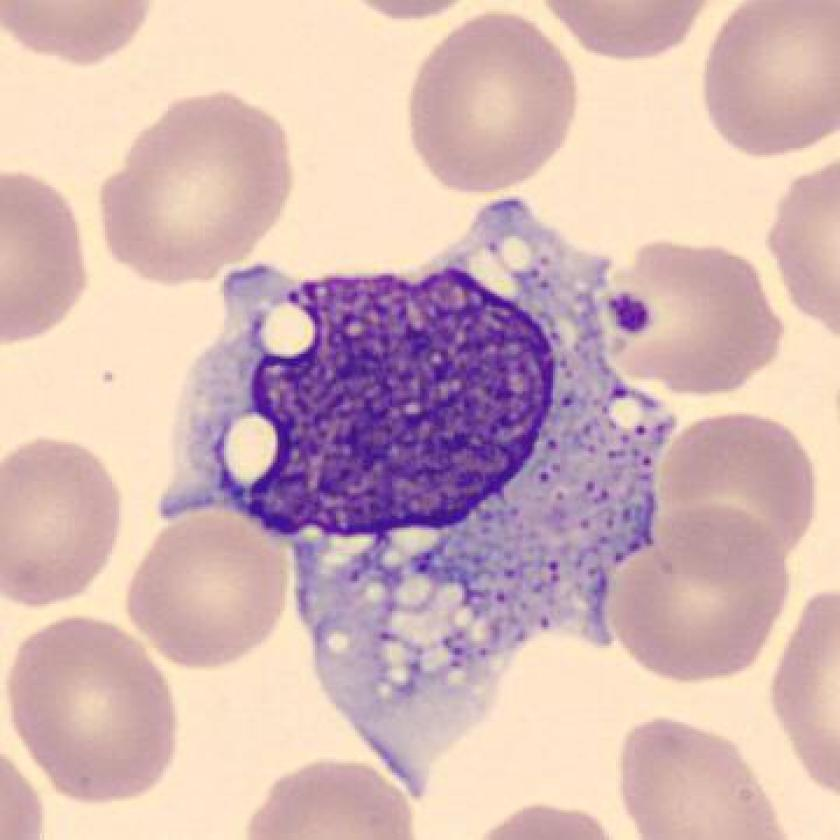monocyte: (141, 179, 694, 811)
